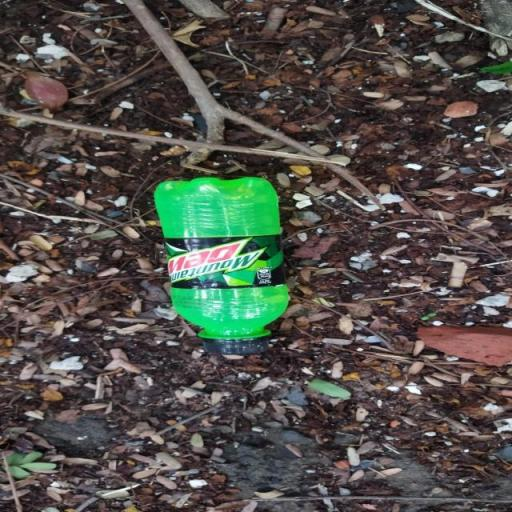plastic: (152, 177, 290, 354)
